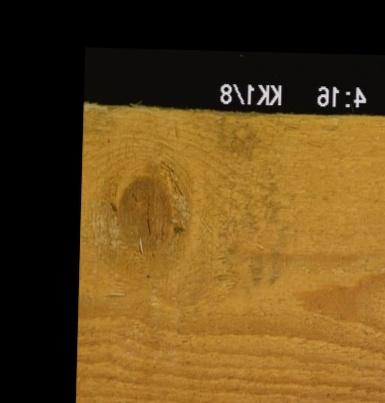sound_knot: (102, 157, 191, 260)
